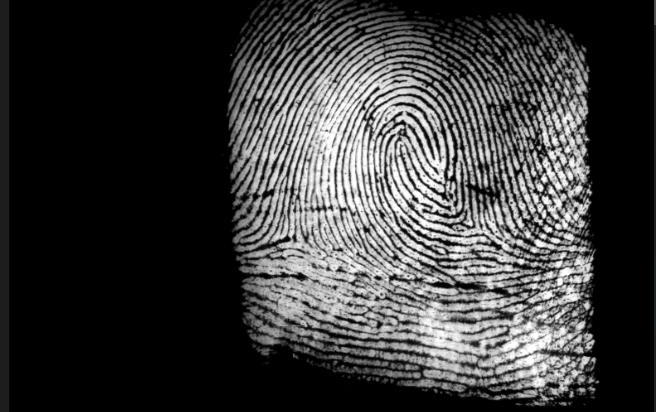nucelo: (387, 129, 412, 159)
verticilo: (279, 230, 302, 248), (467, 219, 486, 239)
